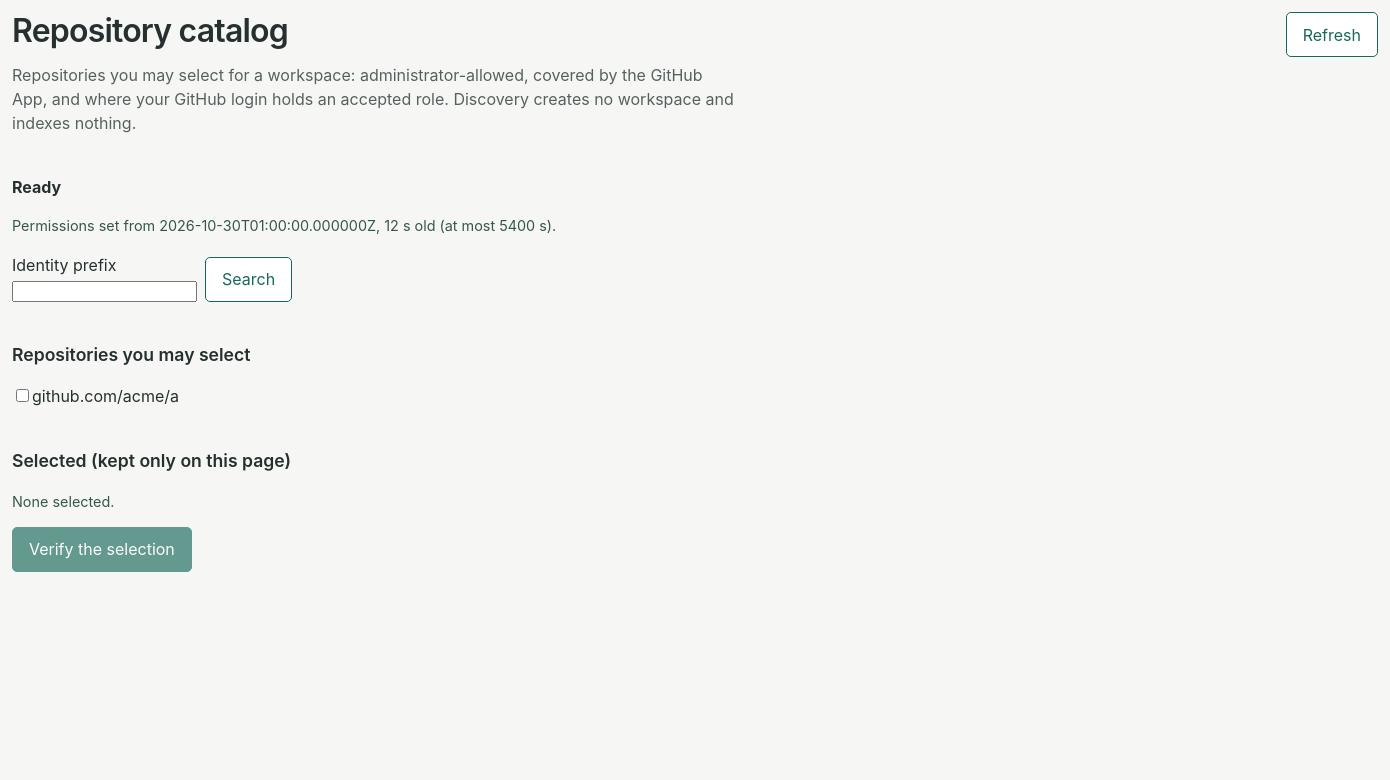
Test case: a search asks the server for the prefix and an empty answer says so
The width and height of the screenshot is (1390, 780).
Expected: the number of checkboxes is 1, [16, 389, 29, 402]
Type "github.com/other" into the field labelled "Identity prefix". click: [104, 291]
box: [12, 281, 197, 302]
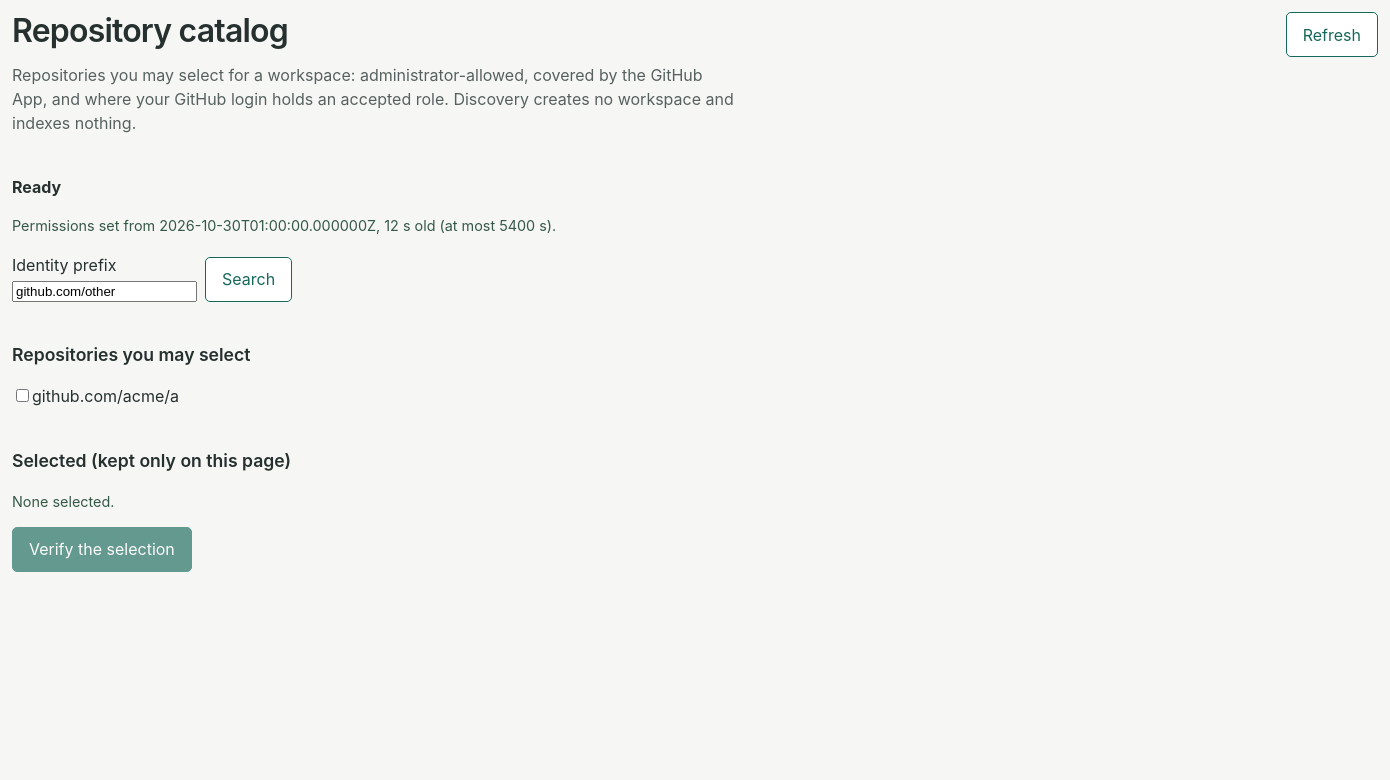
Click the button "Search". click: [249, 279]
box: [205, 257, 292, 302]
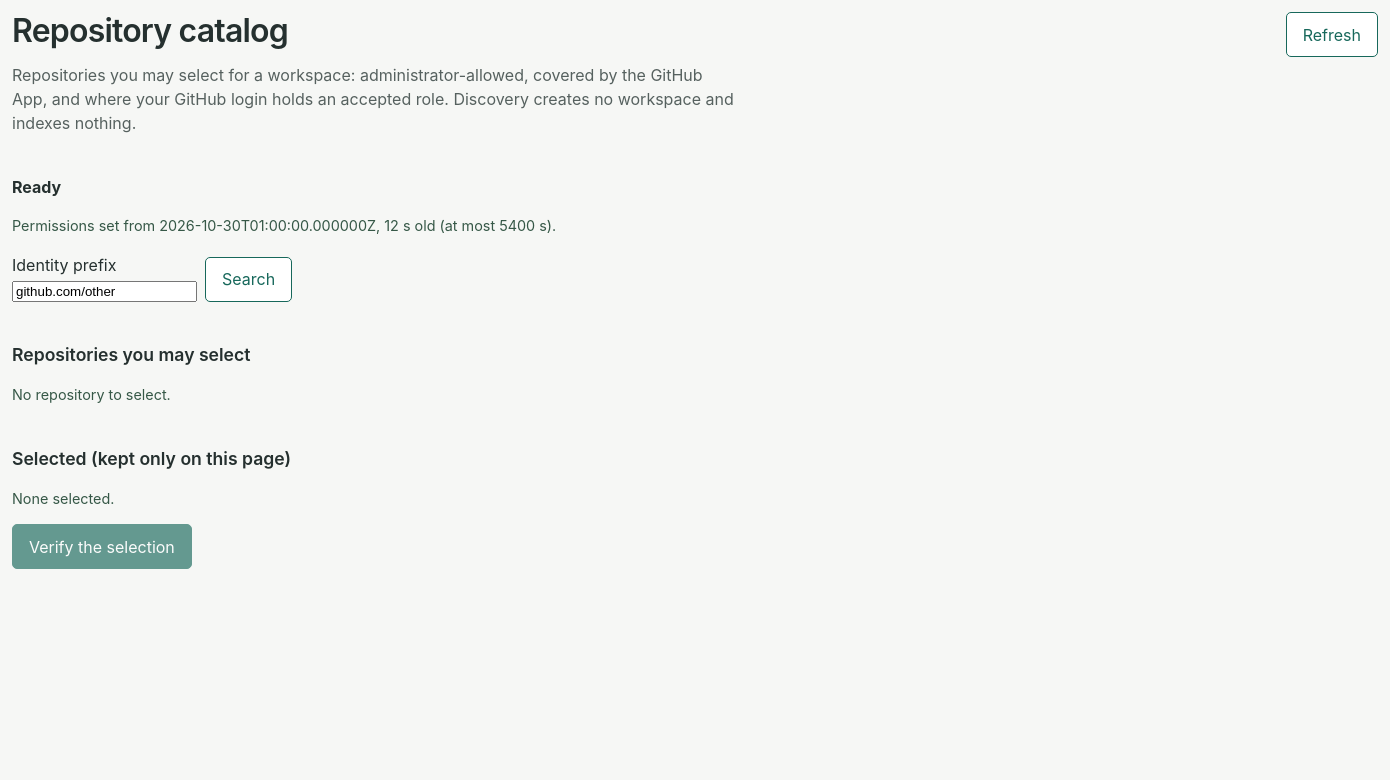
Expected: the text "No repository to select." is shown, [12, 386, 171, 403]
